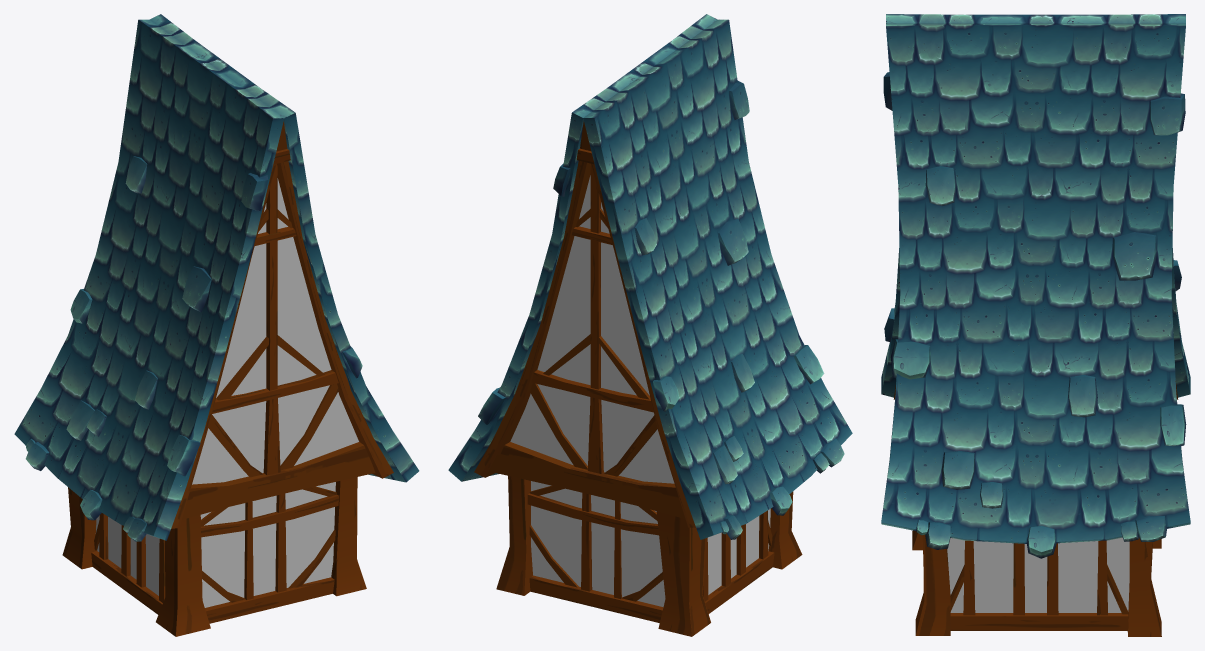
The model's file is SM_BLD_body_v01_02.fbx.
3 renders of one model, left to right at view 1: azimuth 30°, elevation 25°; view 2: azimuth 150°, elevation 25°; view 3: azimuth 270°, elevation 25°, orthographic. The views are drawn at different scales.
Parts seen in each view (by area): view 1: SM_BLD_body_v01_02; view 2: SM_BLD_body_v01_02; view 3: SM_BLD_body_v01_02.
Part boxes in pixels (left/top/right/bottom): SM_BLD_body_v01_02: left=14, top=14, right=419, bottom=636; SM_BLD_body_v01_02: left=448, top=14, right=852, bottom=636; SM_BLD_body_v01_02: left=881, top=14, right=1190, bottom=636.
Size of the model in its own units: 821 by 1428 by 711.
